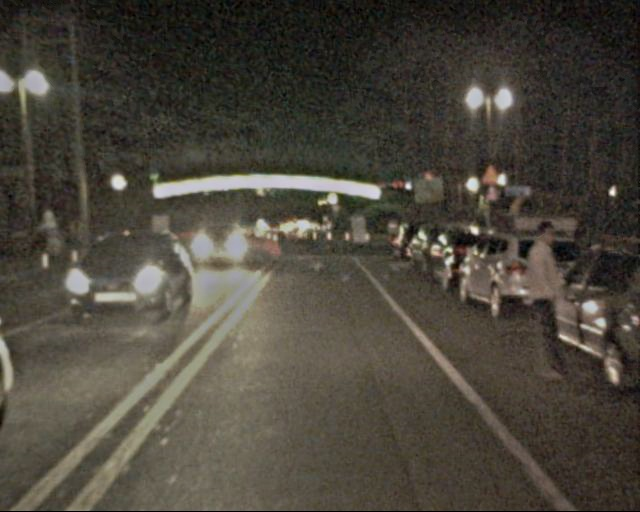person: (510, 223, 575, 377), (384, 219, 402, 255)
